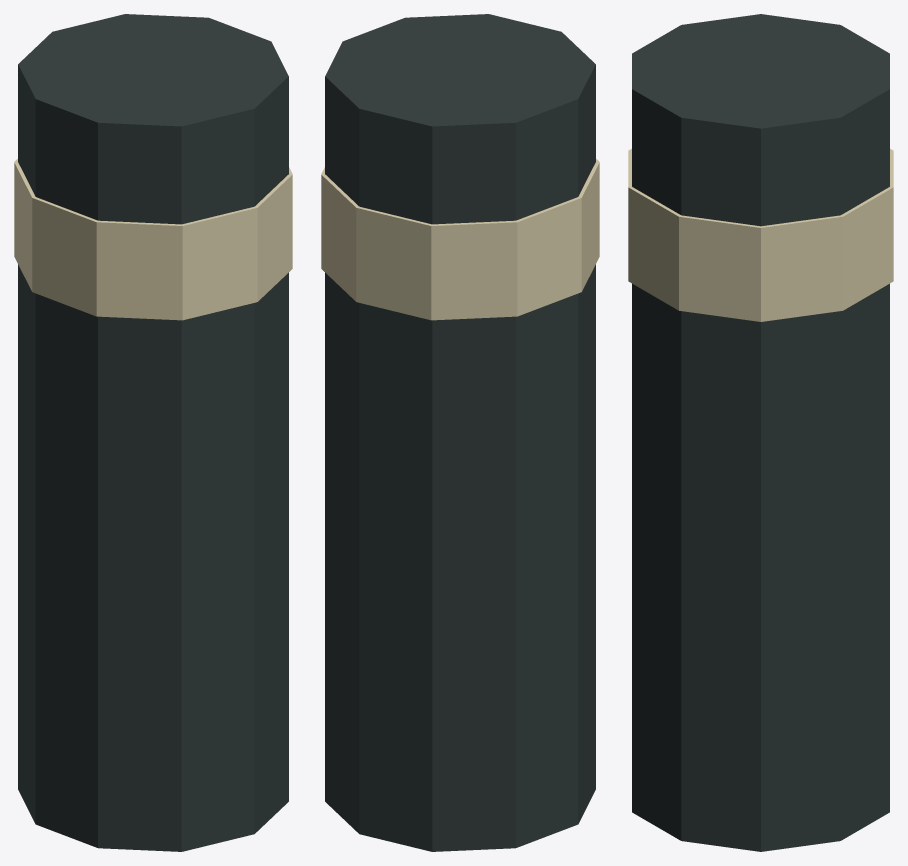
The model's file is bollard.glb.
3 renders of one model, left to right at view 1: azimuth 30°, elevation 25°; view 2: azimuth 150°, elevation 25°; view 3: azimuth 270°, elevation 25°, orthographic.
Parts seen in each view (by area): view 1: bollard; view 2: bollard; view 3: bollard.
Part boxes in pixels (x1,y1,x2,y2): bollard: (14,14,292,851); bollard: (321,14,599,851); bollard: (628,14,893,851).
Bounding box in the file's own units: 0.35 × 1 × 0.3329.
